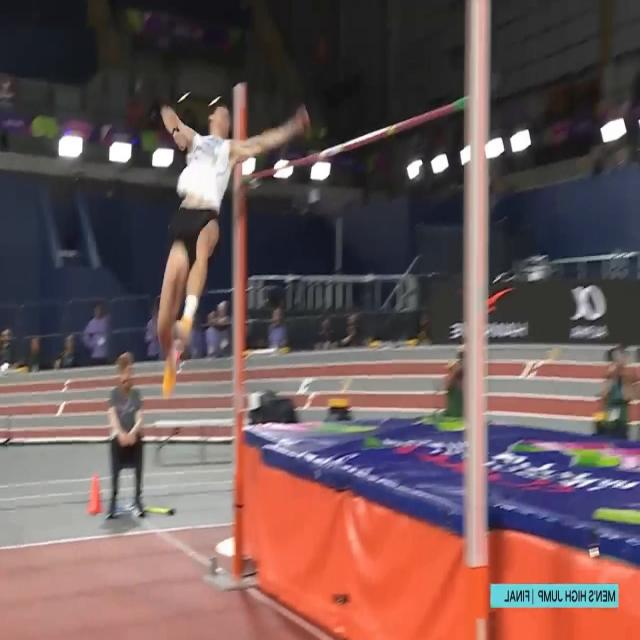jump: (159, 103, 309, 390)
